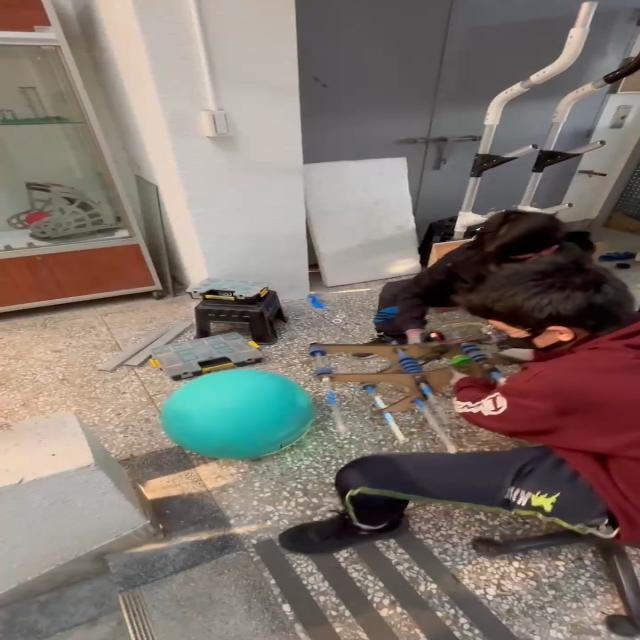ALGAE: (157, 368, 316, 460)
